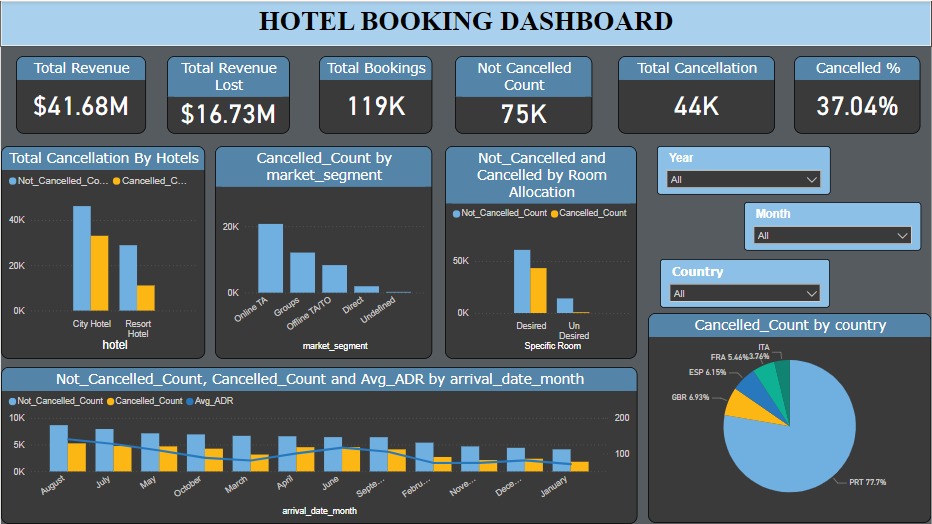

This screenshot's page, from the dashboard's own definition file:
{"tool":"powerbi","page":{"name":"Page 1","canvas":[1280,720],"ordinal":0},"visuals":[{"type":"textbox","box":[0,0,1280,62.5],"z":0},{"type":"card","title":"Total Cancellation","fields":{"Values":["hotel_bookings (1).Cancelled_Count"]},"box":[848.6,75.7,215.7,107.1],"z":1000},{"type":"card","title":"Total Bookings","fields":{"Values":["hotel_bookings (1).Total Booking"]},"box":[437.1,75.7,155.7,107.1],"z":2000},{"type":"card","title":"Total Revenue","fields":{"Values":["hotel_bookings (1).Total_Stays _Avg_ADR"]},"box":[20,75.7,178.6,107.1],"z":3000},{"type":"card","title":"Total Revenue Lost","fields":{"Values":["hotel_bookings (1).RevenueLost"]},"box":[228.6,75.7,168.6,107.1],"z":4000},{"type":"slicer","fields":{"Values":["hotel_bookings (1).country"]},"box":[907.1,355.7,234.3,67.1],"z":5000},{"type":"slicer","fields":{"Values":["hotel_bookings (1).arrival_date_month"]},"box":[1022.6,276.6,243.6,67.4],"z":6000},{"type":"card","title":"Not Cancelled Count","fields":{"Values":["hotel_bookings (1).Not_Cancelled_Count"]},"box":[624.3,75.7,188.6,107.1],"z":7000},{"type":"clusteredColumnChart","title":"Total Cancellation By Hotels","fields":{"Category":["hotel_bookings (1).hotel"],"Y":["hotel_bookings (1).Not_Cancelled_Count","hotel_bookings (1).Cancelled_Count"]},"box":[0,200,281.4,292.9],"z":8000},{"type":"lineClusteredColumnComboChart","fields":{"Category":["hotel_bookings (1).arrival_date_month"],"Y":["hotel_bookings (1).Not_Cancelled_Count","hotel_bookings (1).Cancelled_Count"],"Y2":["hotel_bookings (1).Avg_ADR"]},"box":[0,504.3,875.7,215.7],"z":9000},{"type":"slicer","fields":{"Values":["hotel_bookings (1).reservation_status_date.Variation.Date Hierarchy.Year"]},"box":[902.9,200,238.6,67.1],"z":10000},{"type":"pieChart","fields":{"Category":["hotel_bookings (1).country"],"Y":["hotel_bookings (1).Cancelled_Count"]},"box":[890,430,390,288.6],"z":11000},{"type":"clusteredColumnChart","title":"Not_Cancelled and Cancelled by Room Allocation","fields":{"Category":["hotel_bookings (1).Specific Room"],"Y":["hotel_bookings (1).Not_Cancelled_Count","hotel_bookings (1).Cancelled_Count"]},"box":[611.4,200,264.3,292.9],"z":12000},{"type":"card","title":"Cancelled %","fields":{"Values":["hotel_bookings (1).Total Booking divided by is_canceled"]},"box":[1091.4,75.7,174.3,107.1],"z":13000},{"type":"clusteredColumnChart","fields":{"Y":["hotel_bookings (1).Cancelled_Count"],"Category":["hotel_bookings (1).market_segment"]},"box":[294.3,200,298.6,292.9],"z":14000}]}

Visuals, with their boxes in screenshot pixels (x1, y1, x2, y2), scaled from the page's 1280x720 canvas onto the 932x524 screenshot:
textbox: [0,0,931,45]
"Total Cancellation" card: [618,55,775,133]
"Total Bookings" card: [318,55,432,133]
"Total Revenue" card: [15,55,145,133]
"Total Revenue Lost" card: [166,55,289,133]
slicer - hotel_bookings (1).country: [660,259,831,308]
slicer - hotel_bookings (1).arrival_date_month: [745,201,922,250]
"Not Cancelled Count" card: [455,55,592,133]
"Total Cancellation By Hotels" clusteredColumnChart: [0,146,205,359]
lineClusteredColumnComboChart - hotel_bookings (1).arrival_date_month x hotel_bookings (1).Not_Cancelled_Count: [0,367,638,523]
slicer - hotel_bookings (1).reservation_status_date.Variation.Date Hierarchy.Year: [657,146,831,194]
pieChart - hotel_bookings (1).country x hotel_bookings (1).Cancelled_Count: [648,313,931,523]
"Not_Cancelled and Cancelled by Room Allocation" clusteredColumnChart: [445,146,638,359]
"Cancelled %" card: [795,55,922,133]
clusteredColumnChart - hotel_bookings (1).Cancelled_Count x hotel_bookings (1).market_segment: [214,146,432,359]
